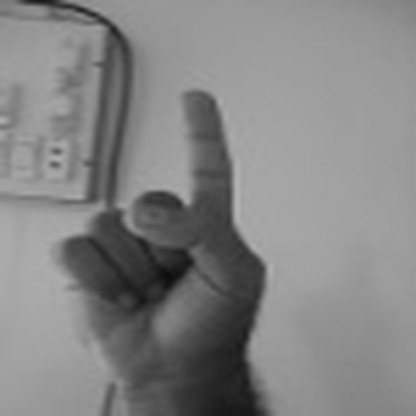d: (54, 86, 271, 368)
